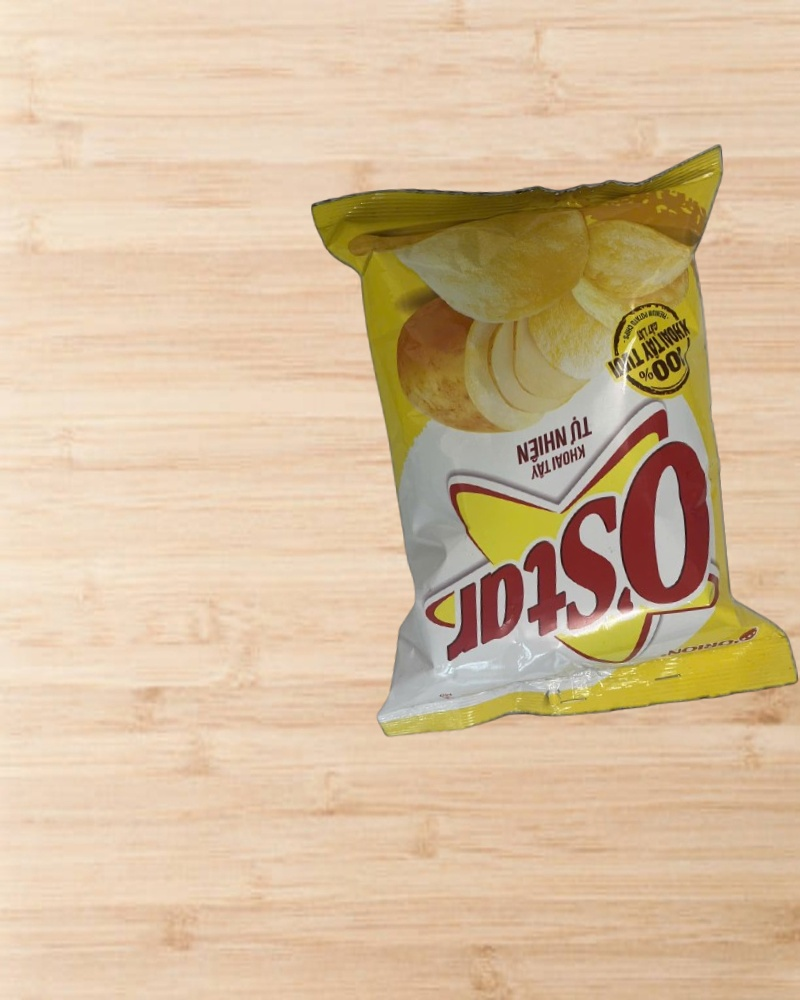Snack cua: (315, 149, 798, 733)
